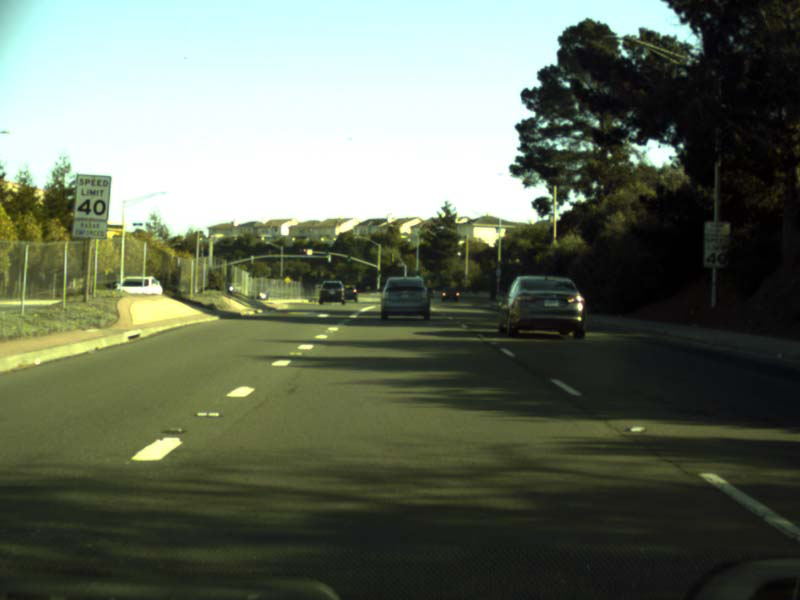Green: (347, 256, 350, 262), (378, 271, 381, 277)
Red: (303, 249, 305, 254)
